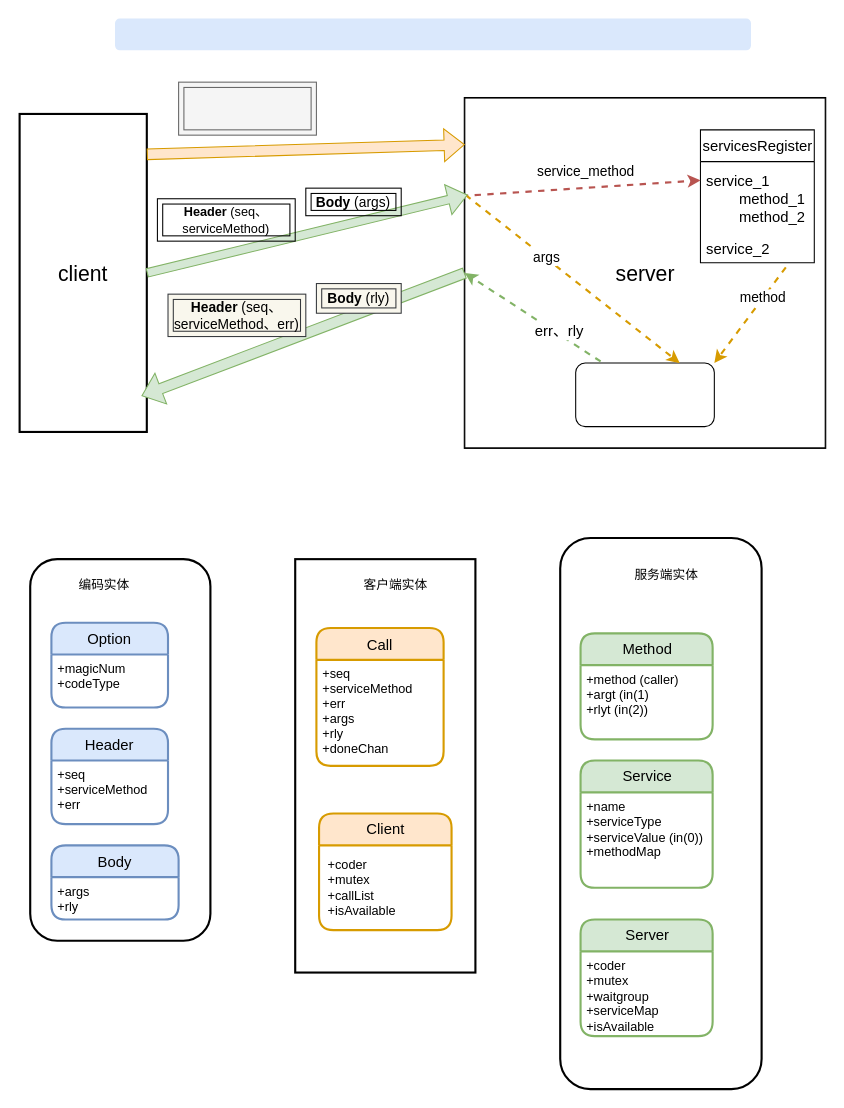
This 844x1108 diagram has some shape labels left out. The centre of each missing label's shape, as x and y in pixels:
"func (s *service) rpcmethod(arg, any, rly pointer) (error)" belongs at point (432, 34).
"Option (magicNum、codeType)" belongs at point (247, 108).
"reflect caller" belongs at point (644, 394).
